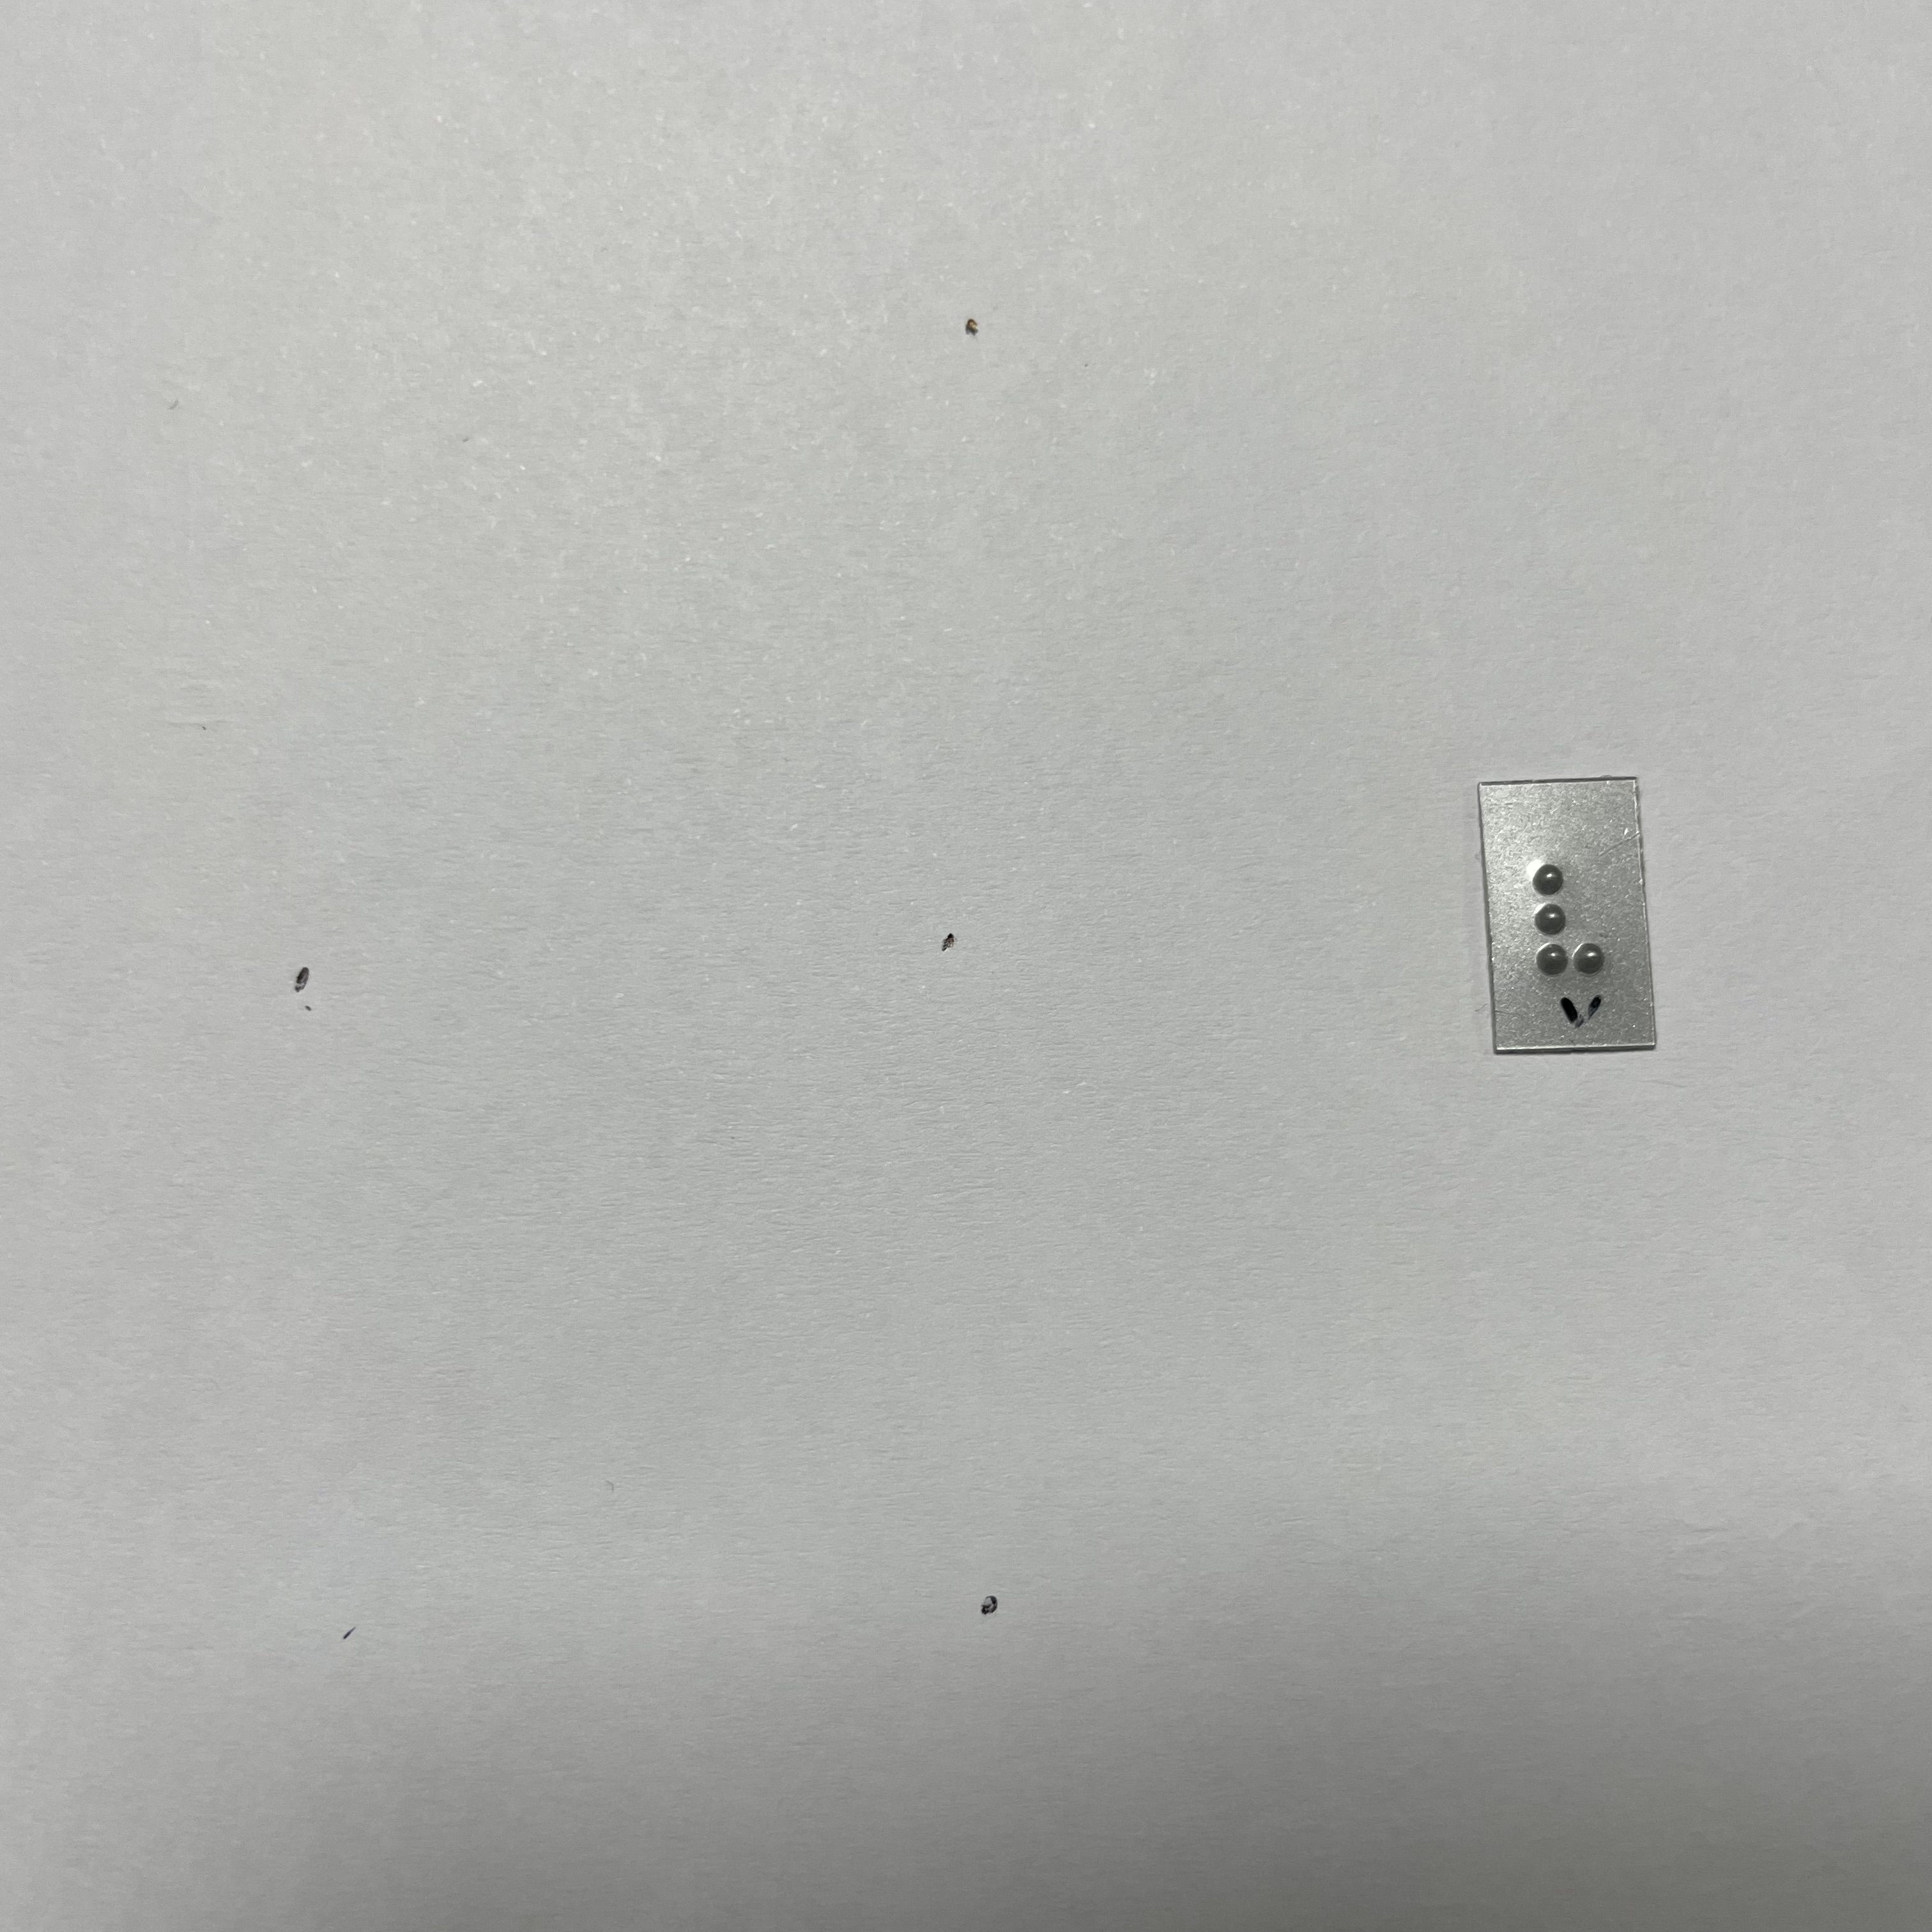v: (1519, 852, 1633, 992)
